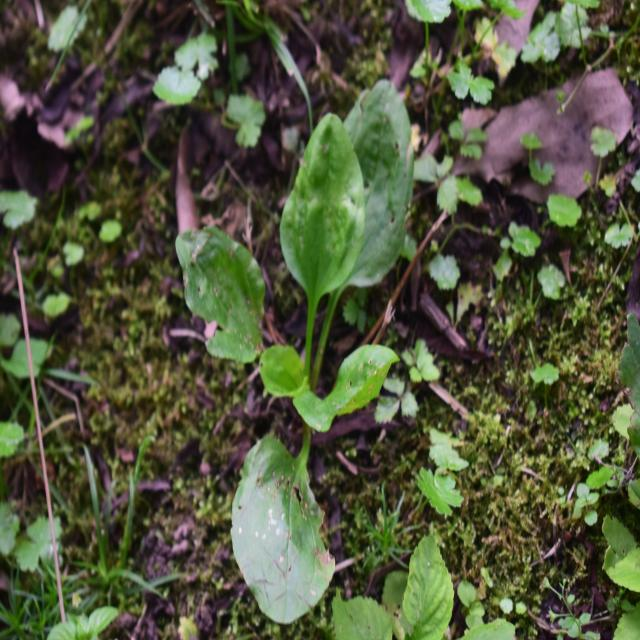plantain: (198, 73, 410, 567)
